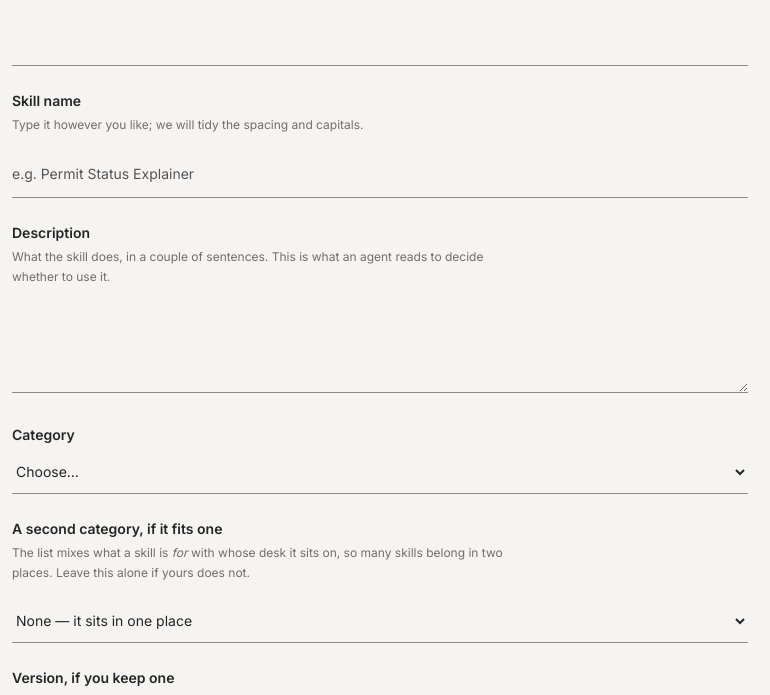
it: Submit — findings report, and do not block › attaches a finding to the field that caused it
(page scrolled)
Type "too short" into the text box labelled "Description" at coordinates (380, 348), box [12,303,748,393]
(page scrolled)
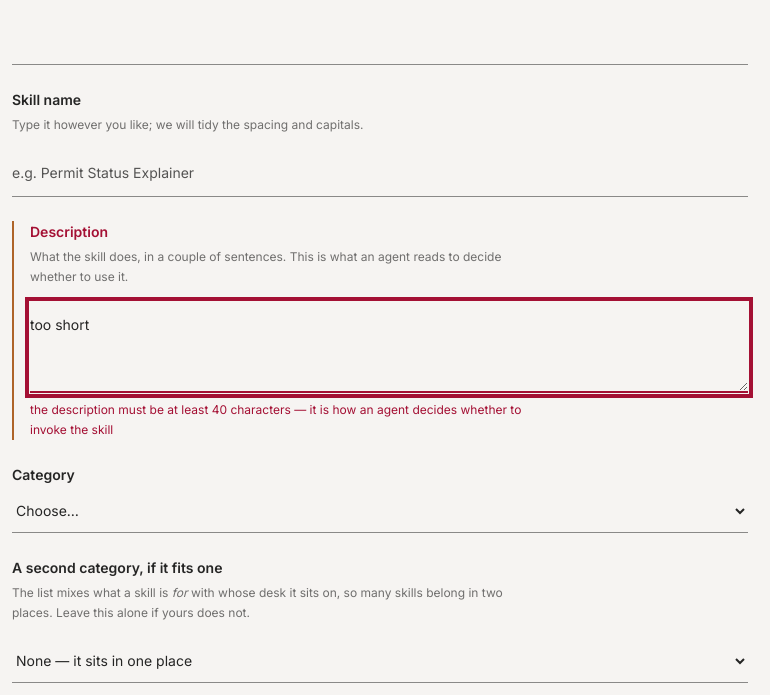
Result: the text "at least 40 characters" is shown at [30,402,521,437]
